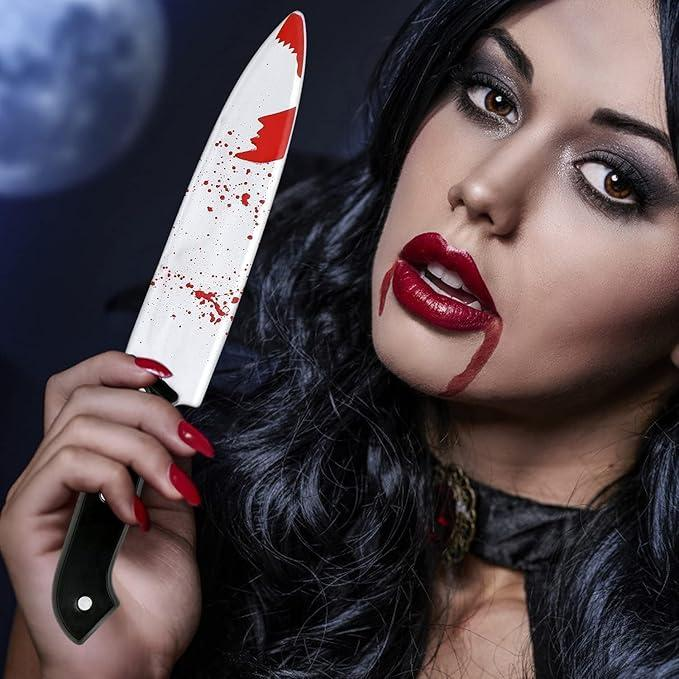Knife: (4, 0, 679, 678), (123, 8, 311, 396), (0, 351, 210, 667)
